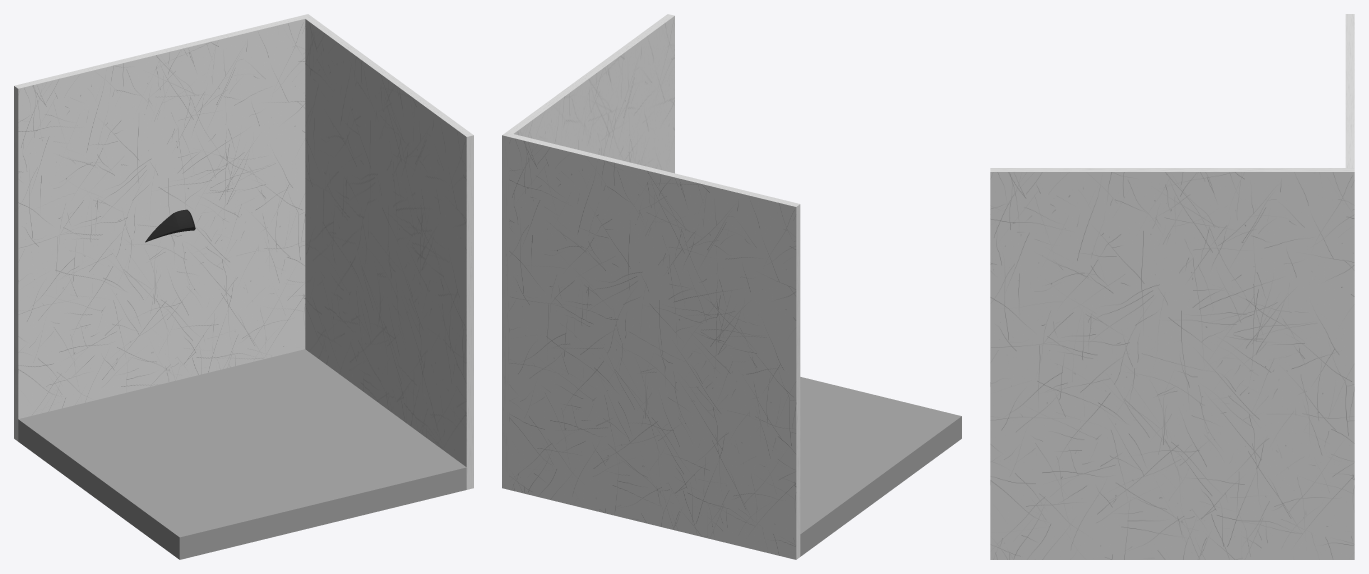
The model's file is v07dzs.gltf.
The picture shows the model from 3 angles, left to right: view 1: azimuth 30°, elevation 25°; view 2: azimuth 150°, elevation 25°; view 3: azimuth 270°, elevation 25°; orthographic projection. The views are drawn at different scales.
Parts seen in each view (by area): view 1: cube1, cube2, cube3, e_m_1objcleanermaterialmergergles; view 2: cube1, cube2, cube3; view 3: cube2, cube1.
Boxes of the visible parts, bbox=[...] form: cube1: bbox=[14, 16, 305, 441]; cube2: bbox=[301, 14, 473, 489]; cube3: bbox=[18, 349, 466, 559]; e_m_1objcleanermaterialmergergles: bbox=[145, 209, 195, 242]; cube1: bbox=[509, 134, 800, 559]; cube2: bbox=[502, 14, 674, 489]; cube3: bbox=[800, 377, 961, 556]; cube2: bbox=[990, 168, 1354, 559]; cube1: bbox=[1345, 14, 1354, 167].
Bounding box in the file's own units: 4.1 × 4.7 × 4.
Materials: 4 (3 with a texture image).
